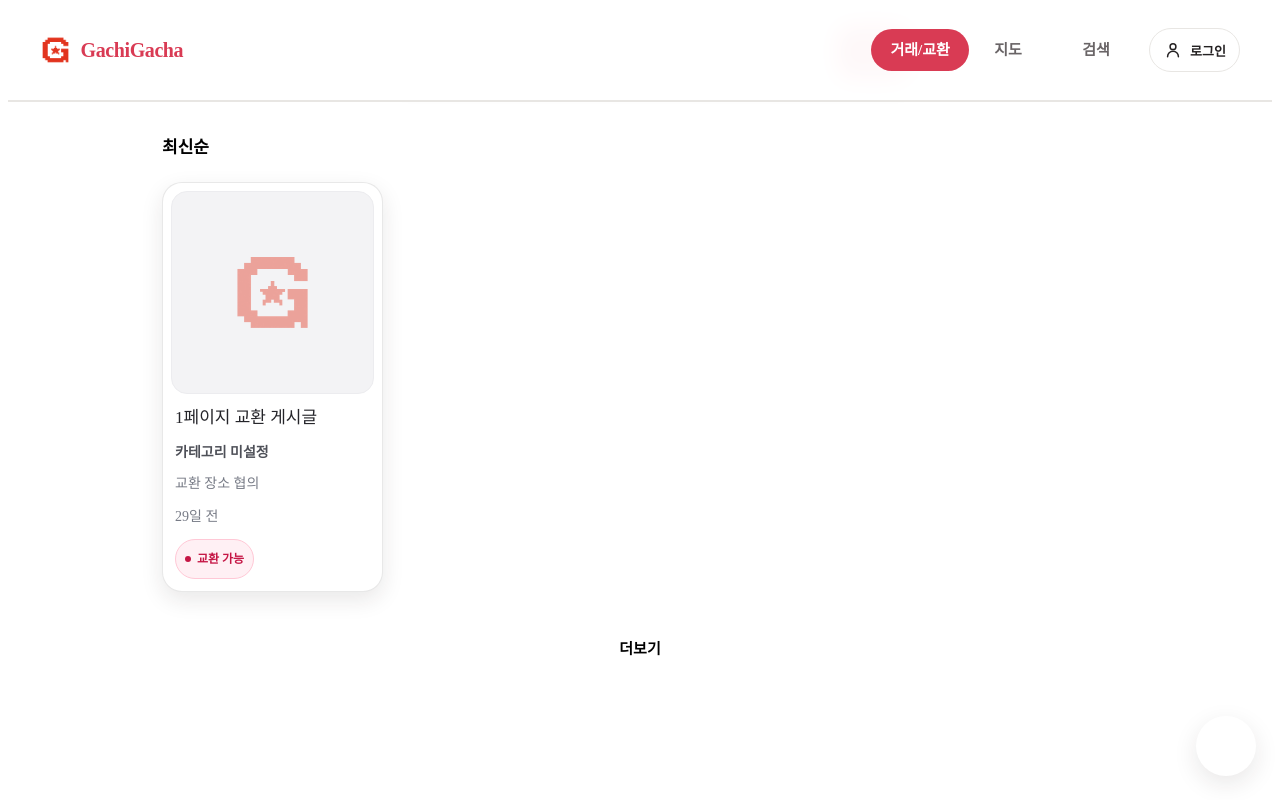
it: 교환 게시글 검색 › 더보기를 누르면 다음 페이지 게시글을 기존 목록에 추가한다
(page scrolled)
Check: the heading "1페이지 교환 게시글" is shown, box [175,408,317,427]
Click the button "더보기" at (640, 648), box [560,624,720,672]
(page scrolled)
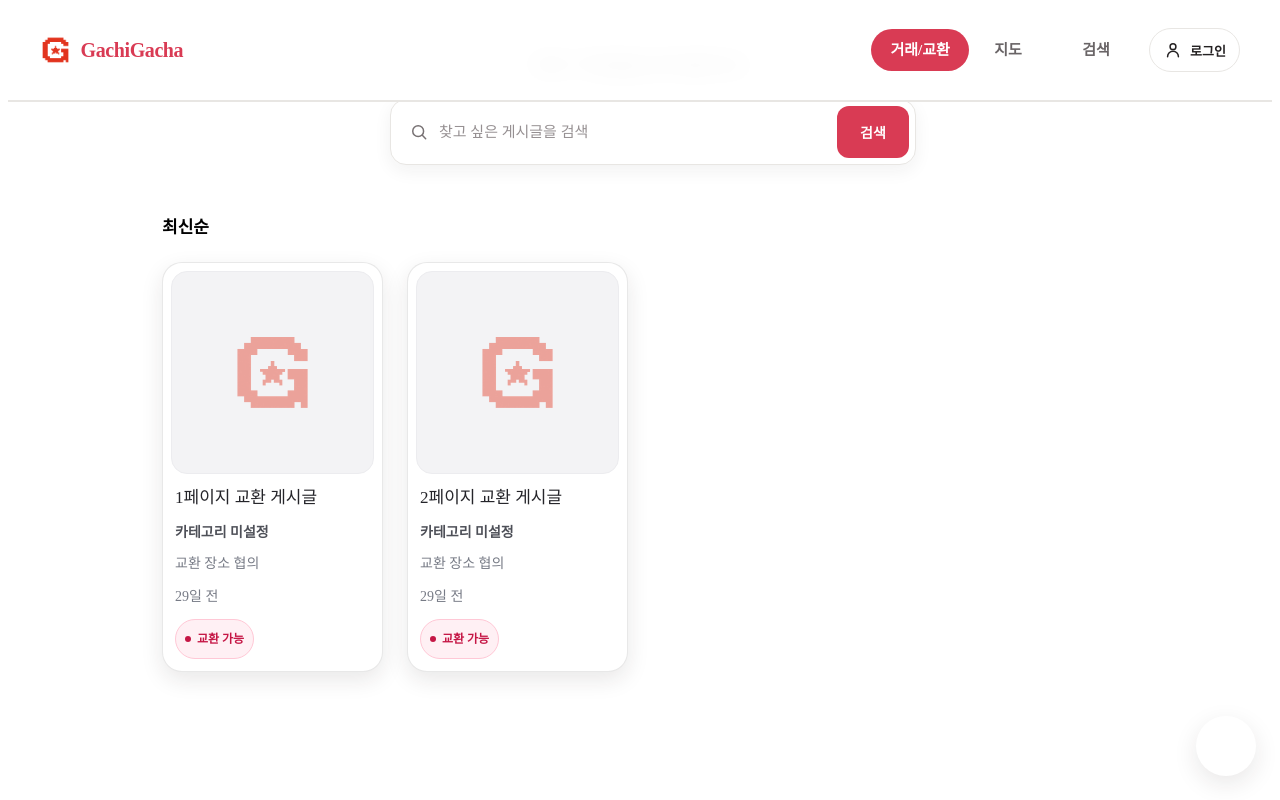
Check: the heading "1페이지 교환 게시글" is shown, box [175,488,317,507]
Check: the heading "2페이지 교환 게시글" is shown, box [420,488,562,507]
Check: the button "더보기" is gone
